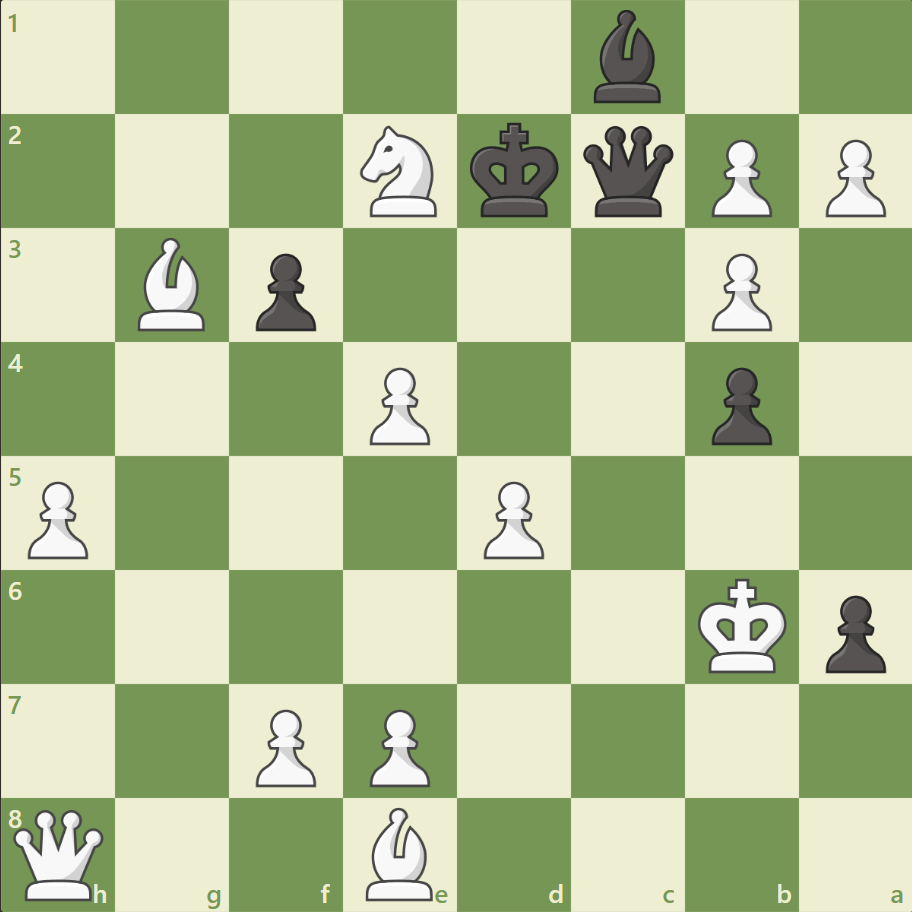B: (358, 801, 442, 904), (131, 233, 215, 336)
K: (692, 571, 792, 679)
N: (351, 121, 449, 223)
P: (247, 700, 322, 791), (474, 473, 549, 564), (20, 473, 95, 564), (701, 246, 776, 337), (701, 132, 776, 223), (361, 700, 435, 791), (361, 359, 435, 450), (815, 132, 889, 223)
Q: (10, 804, 109, 903)
b: (585, 6, 669, 109)
k: (465, 117, 565, 225)
p: (701, 359, 776, 450), (247, 246, 322, 337), (815, 586, 889, 677)
q: (578, 122, 677, 222)
